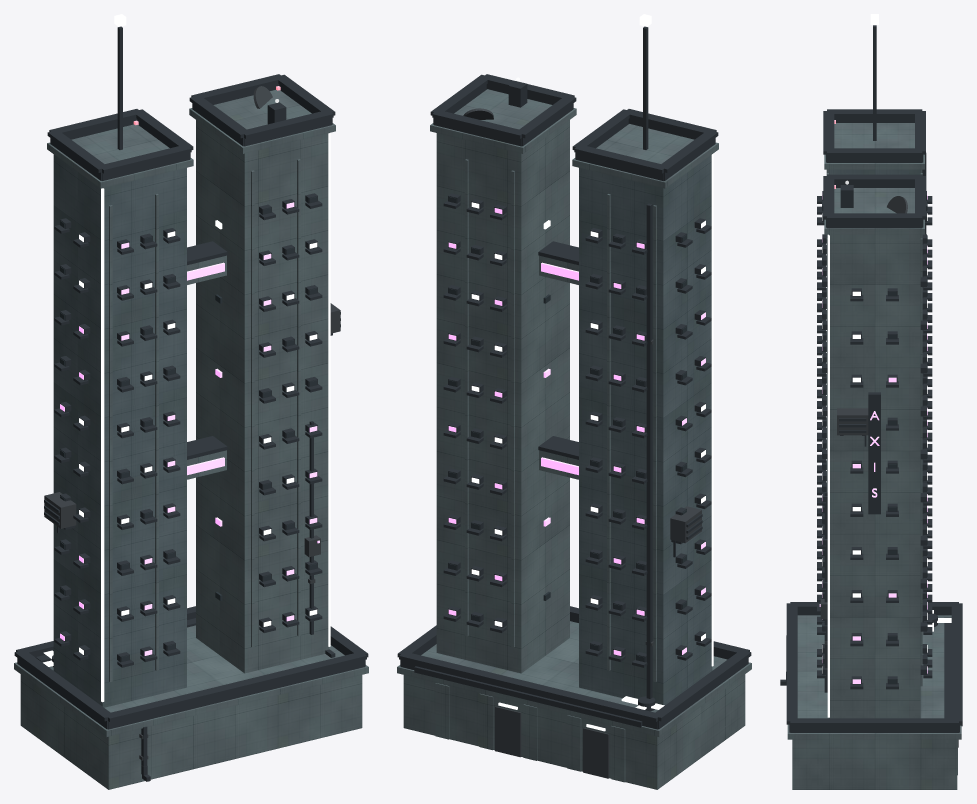
The model's file is synthwave-mega-twins.glb.
3 views of the same model, side by side, from view 1: azimuth 30°, elevation 25°; view 2: azimuth 150°, elevation 25°; view 3: azimuth 270°, elevation 25° (orthographic). The views are drawn at different scales.
Parts seen in each view (by area): view 1: MegaTwins_Body2, Shaft0, MegaTwins_Frame, MegaTwins_TwinBand, MegaTwins_Door, MegaTwins_PaneOff, MegaTwins_TwinBridge, RK_Spire, MegaTwins_PaneBDim, MegaTwins_PaneADim; view 2: MegaTwins_Body2, Shaft0, MegaTwins_Frame, MegaTwins_Door, MegaTwins_TwinBand, MegaTwins_PaneOff, MegaTwins_TwinBridge, RK_Spire, MegaTwins_PaneBDim; view 3: MegaTwins_Body2, MegaTwins_Frame, MegaTwins_TwinBand, MegaTwins_Door, MegaTwins_PaneOff, Shaft0, RK_Spire.
Boxes of the visible parts, x1=… form: MegaTwins_Body2: x1=14, y1=90, x2=368, y2=789; Shaft0: x1=53, y1=154, x2=186, y2=707; MegaTwins_Frame: x1=14, y1=74, x2=368, y2=781; MegaTwins_TwinBand: x1=101, y1=133, x2=330, y2=702; MegaTwins_Door: x1=44, y1=303, x2=340, y2=760; MegaTwins_PaneOff: x1=60, y1=196, x2=317, y2=661; MegaTwins_TwinBridge: x1=187, y1=262, x2=224, y2=475; RK_Spire: x1=117, y1=26, x2=122, y2=149; MegaTwins_PaneBDim: x1=60, y1=242, x2=317, y2=640; MegaTwins_PaneADim: x1=79, y1=231, x2=317, y2=654; MegaTwins_Body2: x1=397, y1=89, x2=751, y2=789; Shaft0: x1=579, y1=155, x2=712, y2=705; MegaTwins_Frame: x1=397, y1=74, x2=751, y2=729; MegaTwins_Door: x1=495, y1=339, x2=701, y2=778; MegaTwins_TwinBand: x1=711, y1=153, x2=713, y2=666; MegaTwins_PaneOff: x1=448, y1=196, x2=686, y2=661; MegaTwins_TwinBridge: x1=541, y1=262, x2=578, y2=475; RK_Spire: x1=643, y1=26, x2=648, y2=149; MegaTwins_PaneBDim: x1=494, y1=208, x2=705, y2=655; MegaTwins_Body2: x1=787, y1=123, x2=961, y2=789; MegaTwins_Frame: x1=780, y1=109, x2=962, y2=732; MegaTwins_TwinBand: x1=827, y1=234, x2=829, y2=717; MegaTwins_Door: x1=820, y1=408, x2=958, y2=747; MegaTwins_PaneOff: x1=822, y1=202, x2=927, y2=683; Shaft0: x1=829, y1=169, x2=920, y2=174; RK_Spire: x1=873, y1=25, x2=876, y2=140.
Bounding box in the file's own units: 1.56 × 4.11 × 0.995.
Materials: 19 (2 with a texture image).
